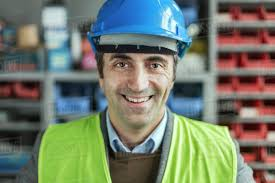Person_wearing_helmet: (79, 0, 196, 75)
